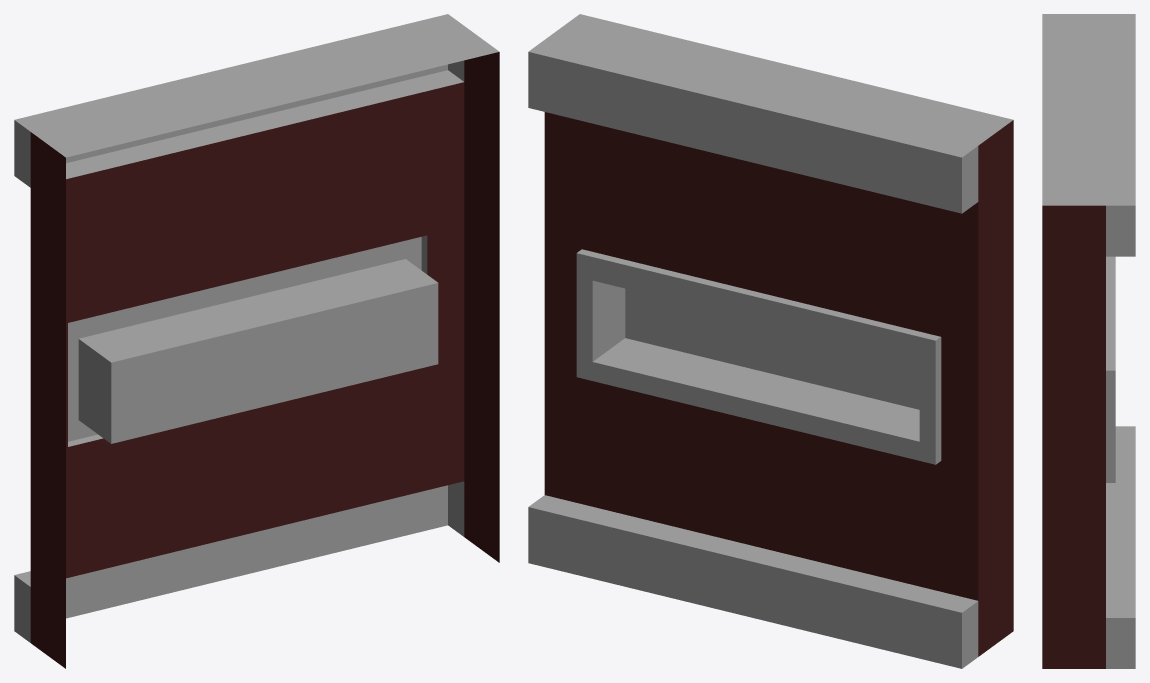
File: Fireplace.fbx
3 renders of one model, left to right at view 1: azimuth 30°, elevation 25°; view 2: azimuth 150°, elevation 25°; view 3: azimuth 270°, elevation 25°, orthographic. The views are drawn at different scales.
Visible parts, largest first — view 1: Fireplace; view 2: Fireplace; view 3: Fireplace.
Part boxes in pixels (x1,y1,x2,y2): Fireplace: (14, 14, 499, 668); Fireplace: (528, 14, 1013, 668); Fireplace: (1042, 14, 1135, 668).
Bounding box in the file's own units: 3.55 × 4 × 0.732.
